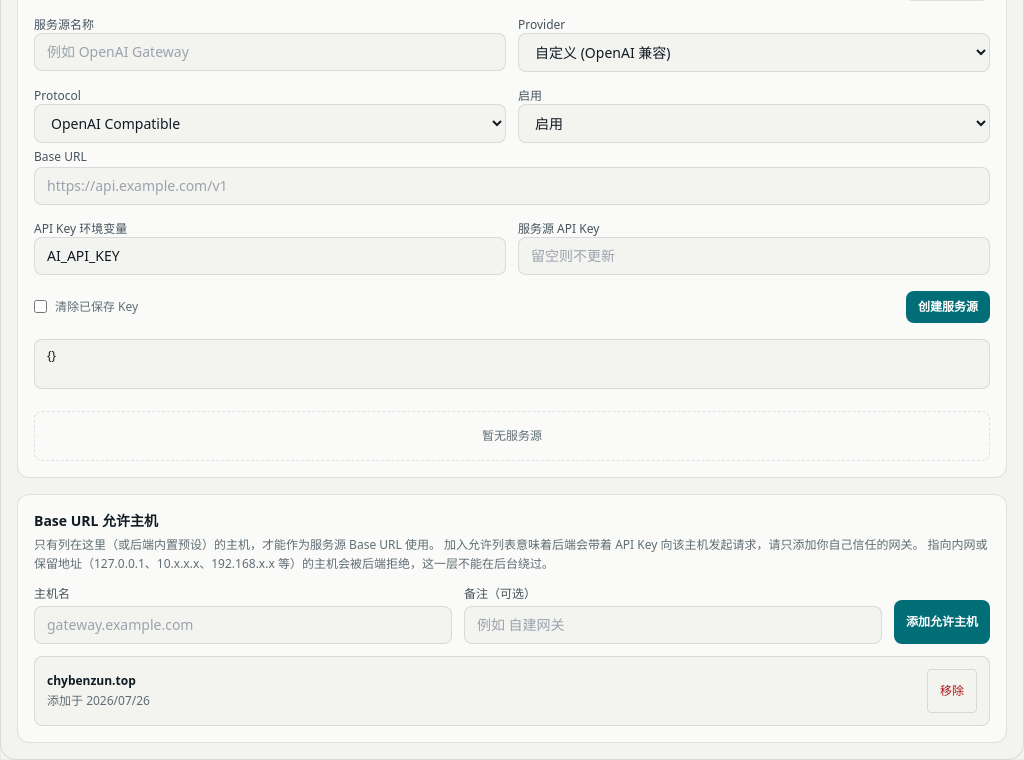
Base URL 允许主机管理 › 删除走确认对话框，取消时不发请求
The image size is (1024, 760).
(page scrolled)
Step 1. Click the button with aria-label "移除允许主机 chybenzun.top" → (952, 690), box [927,668,977,712]
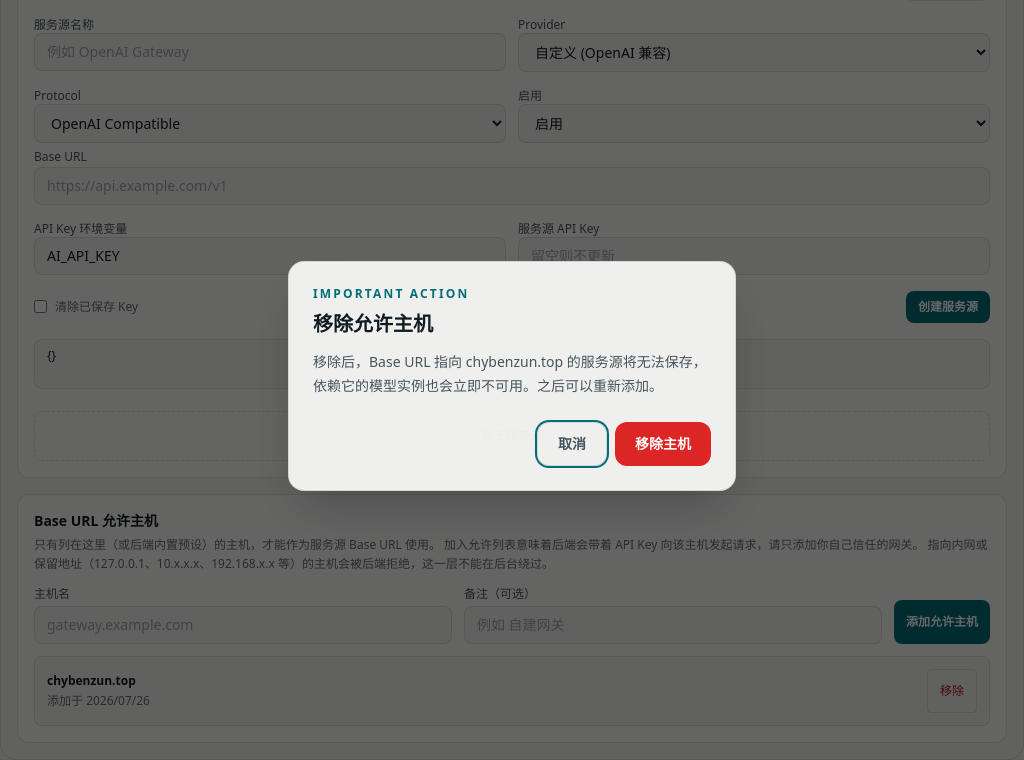
Result: the dialog "移除允许主机" is shown at [288,261,736,491]
Step 2. Click the button "取消" → (572, 444), box [537,422,607,466]
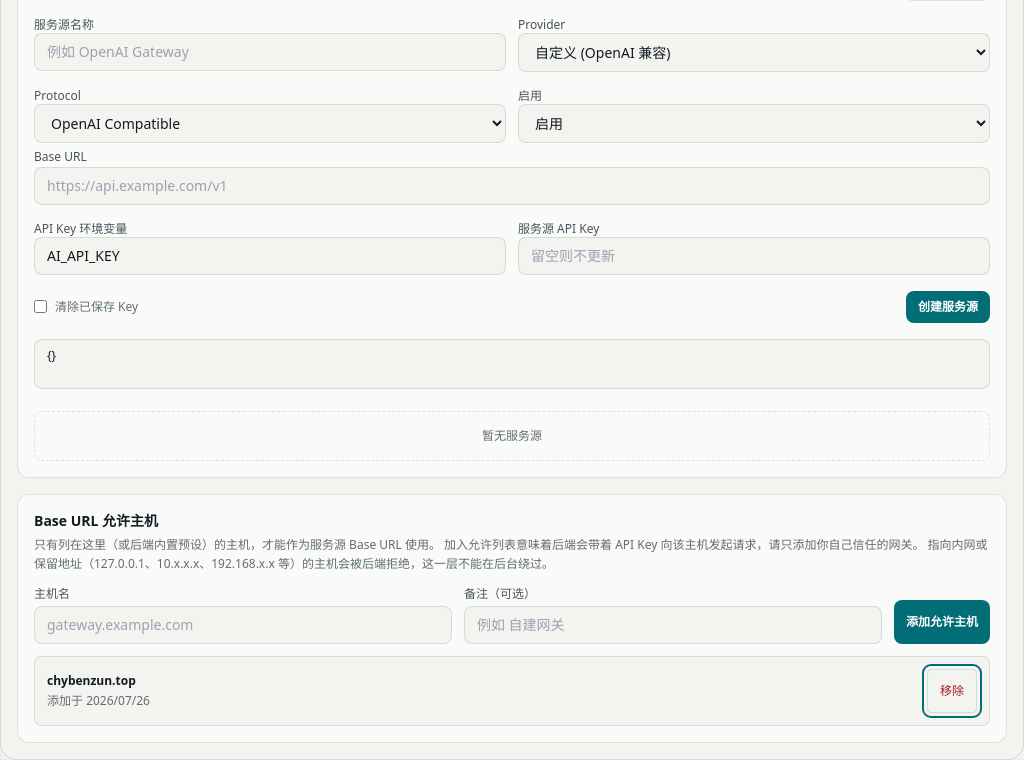
Result: the dialog is gone
Step 3. Click the button with aria-label "移除允许主机 chybenzun.top" → (952, 690), box [927,668,977,712]
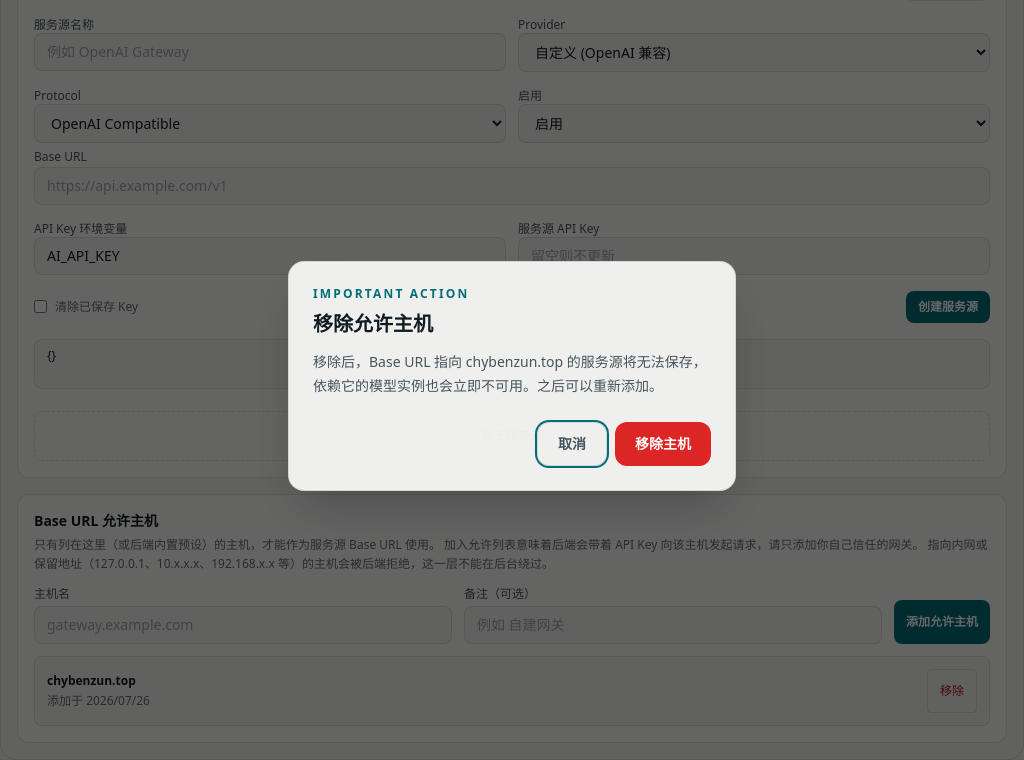
Step 4. Click the button "移除主机" → (663, 444), box [615,422,711,466]
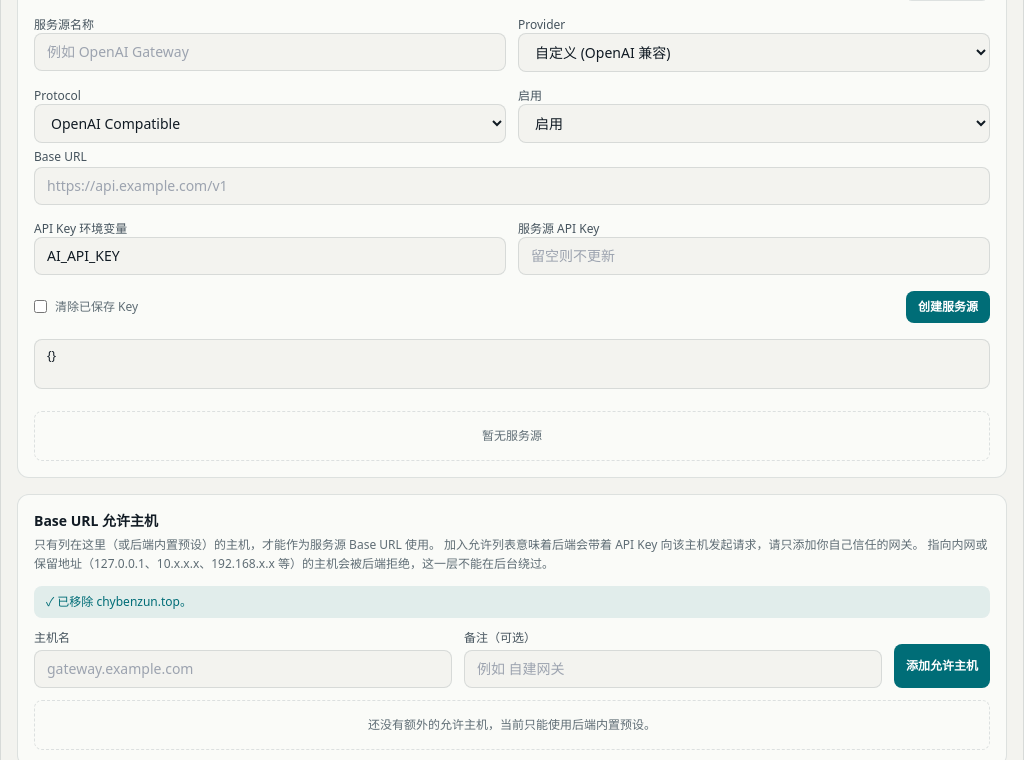
Result: the text "✓ 已移除 chybenzun.top。" is shown at [34,586,990,618]
